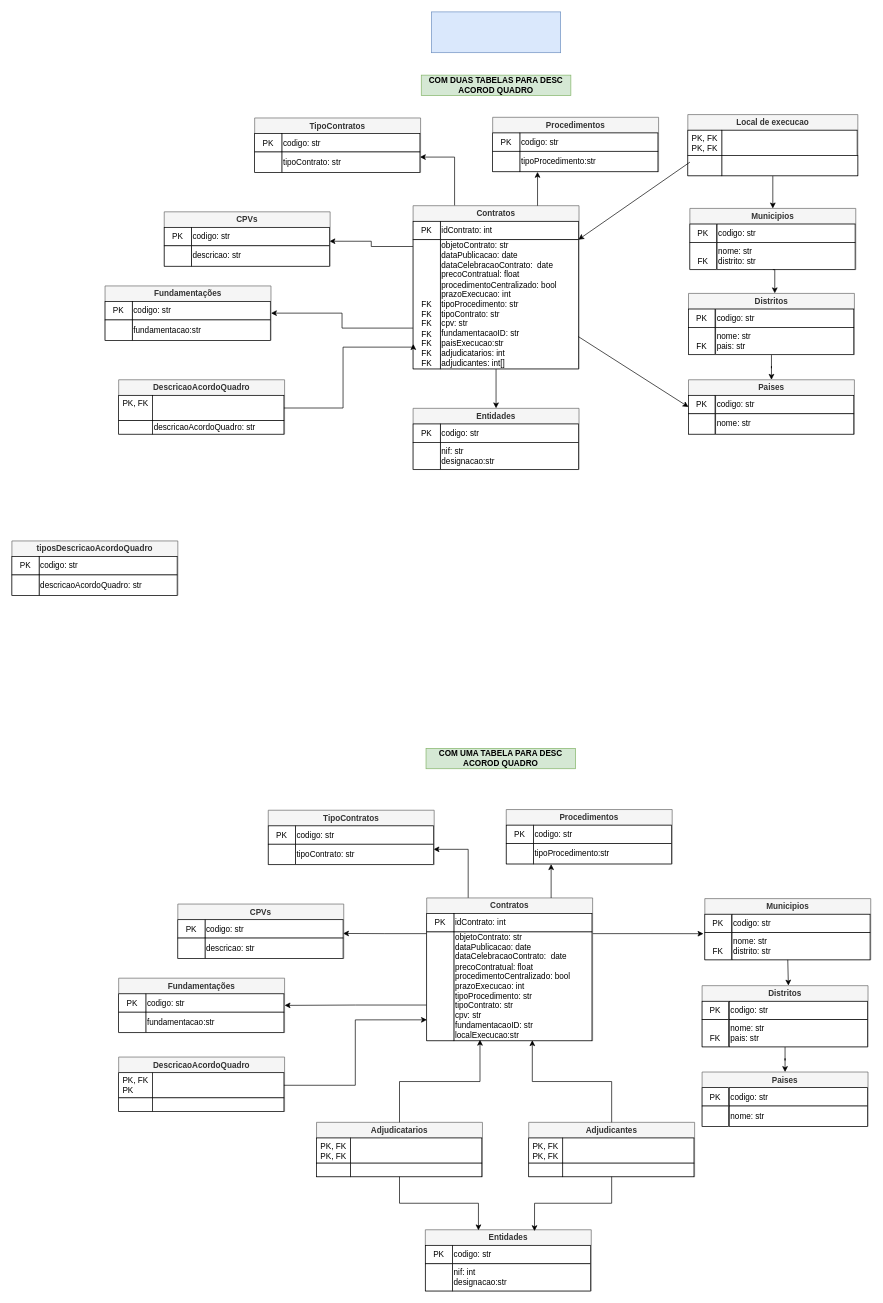
The diagram is 883 pixels wide and 1303 high, and some of its shapes have lost their labels. The shapes that lost their labels are listed below. From the top down, each one's centre as x and y in pixels, then its label:
[496,32]: Modelo Relacional Contratos públicos
[789,142]: contrato: str municipio: str
[218,408]: contrato: str
[440,986]: FK FK FK FK FK
[218,1085]: contrato: str descricaoAcordoQuadro: str
[416,1150]: contrato: str entidate: str
[628,1150]: contrato: str entidate : str
